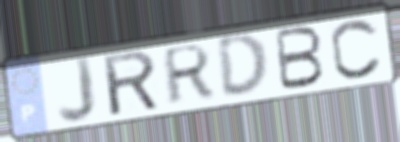B: (273, 24, 327, 93)
C: (328, 16, 384, 81)
D: (213, 31, 272, 99)
J: (55, 54, 99, 125)
R: (99, 48, 163, 119), (162, 40, 216, 108)
